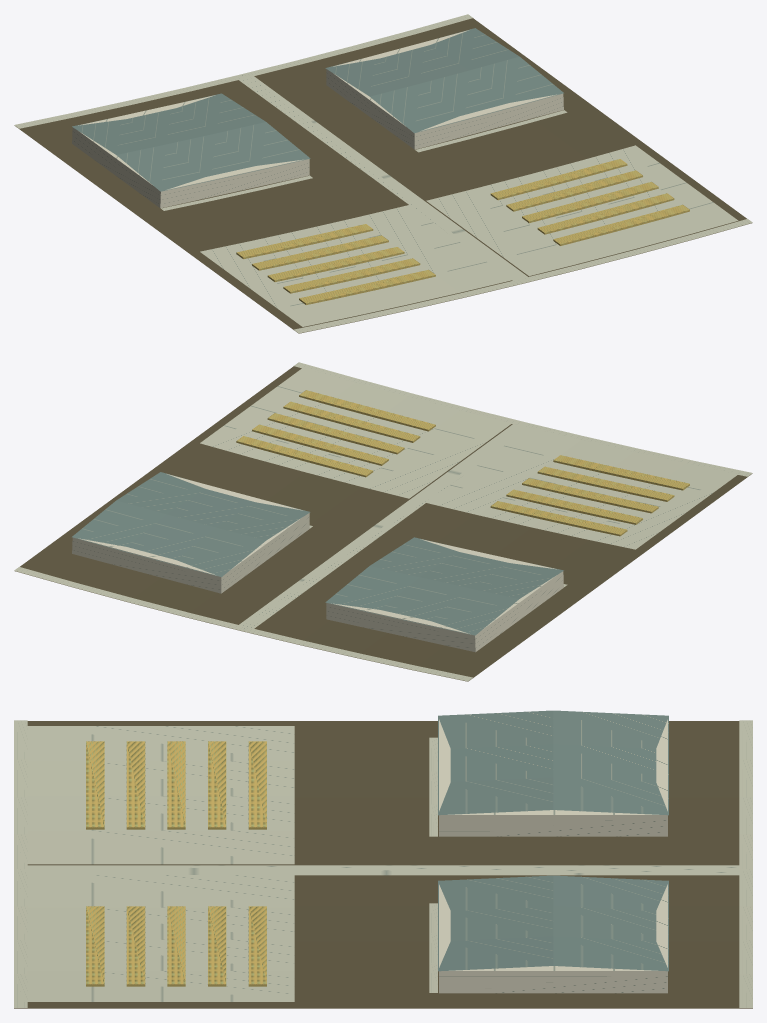
File: TorusSettlementFarm_A64.obj
3 views of the same model, one above another, from view 1: azimuth 30°, elevation 25°; view 2: azimuth 150°, elevation 25°; view 3: azimuth 270°, elevation 25° (orthographic). The views are drawn at different scales.
Parts seen in each view (by area): view 1: ornament, support, solid; view 2: ornament, support, solid; view 3: ornament, support, solid.
Part boxes in pixels (x1=…): ornament: x1=72, y1=28, x2=738, y2=326; support: x1=14, y1=14, x2=752, y2=333; solid: x1=72, y1=30, x2=689, y2=304; ornament: x1=72, y1=368, x2=737, y2=635; support: x1=14, y1=362, x2=752, y2=681; solid: x1=72, y1=390, x2=689, y2=652; ornament: x1=27, y1=710, x2=668, y2=1001; support: x1=14, y1=720, x2=752, y2=1008; solid: x1=86, y1=719, x2=667, y2=993.
Bounding box in the file's own units: 17.5 × 0.9253 × 19.
Materials: 1 (1 with a texture image).
